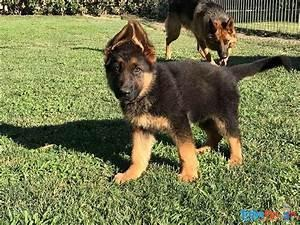dog: (102, 18, 298, 185), (163, 0, 238, 66)
